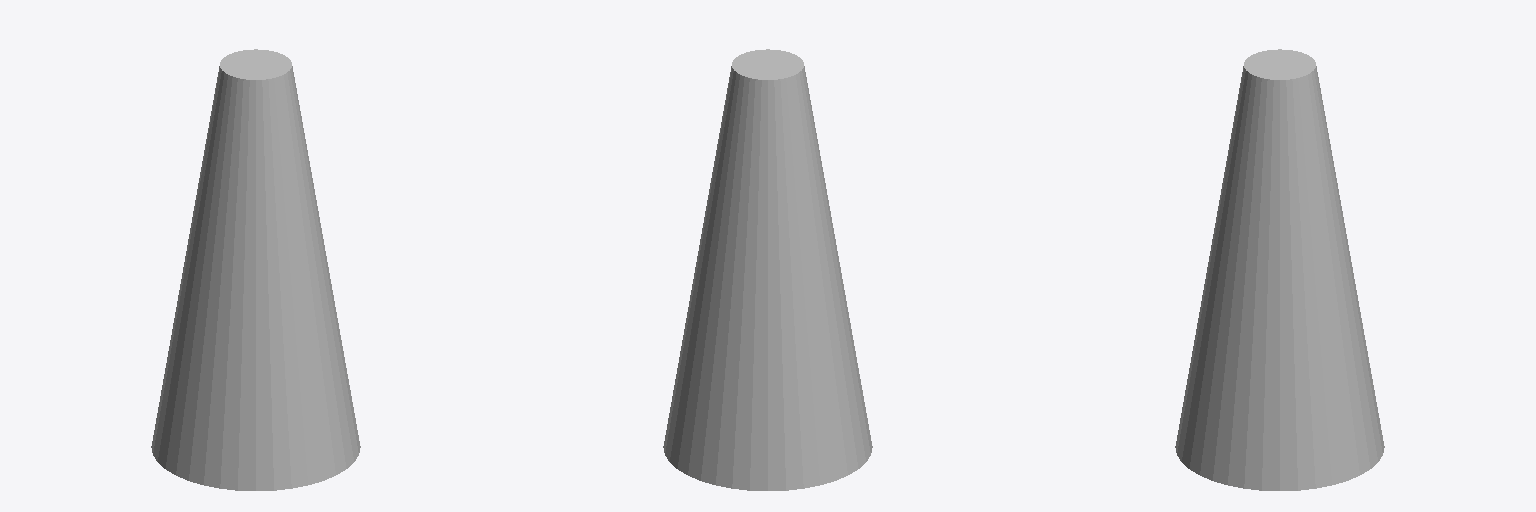
The model's file is Light_cone.obj.
3 views of the same model, side by side, from view 1: azimuth 30°, elevation 25°; view 2: azimuth 150°, elevation 25°; view 3: azimuth 270°, elevation 25° (orthographic).
Parts seen in each view (by area): view 1: Cylinder; view 2: Cylinder; view 3: Cylinder.
Boxes of the visible parts, x1,y1,x2,y2 form: Cylinder: [151, 49, 360, 490]; Cylinder: [663, 49, 872, 490]; Cylinder: [1175, 49, 1384, 490].
Bounding box in the file's own units: 99.19 × 200 × 99.19.